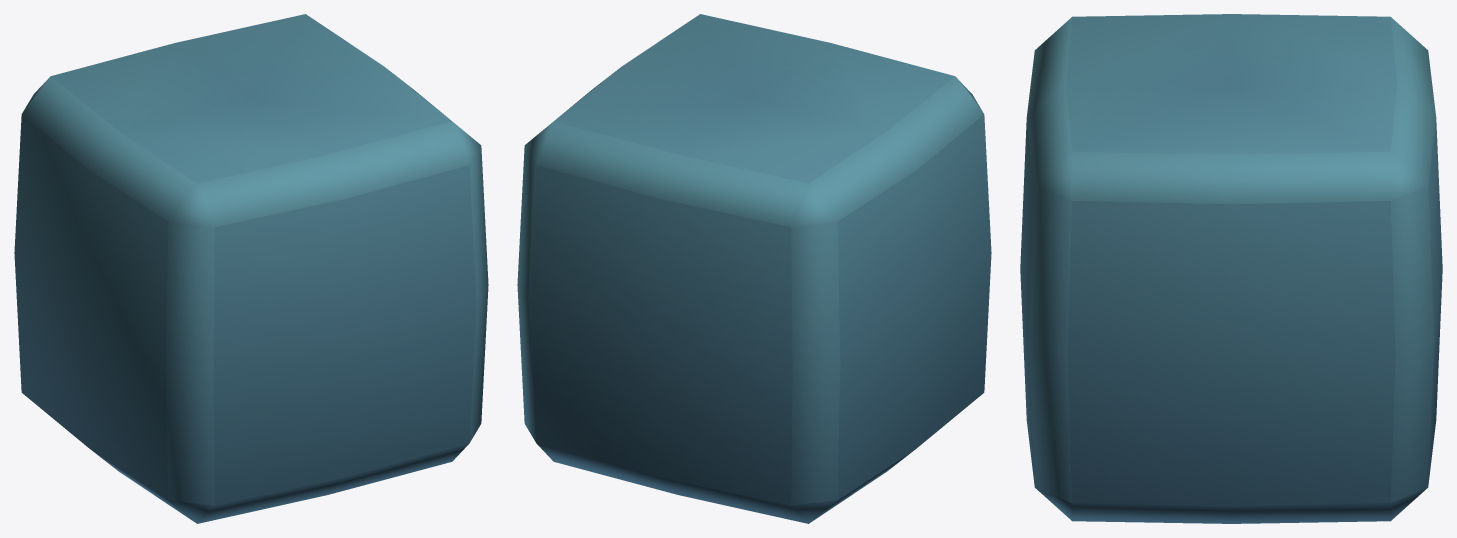
Rendered from cube_50cm_light.fbx.
The picture shows the model from 3 angles, left to right: view 1: azimuth 30°, elevation 25°; view 2: azimuth 150°, elevation 25°; view 3: azimuth 270°, elevation 25°; orthographic projection. The views are drawn at different scales.
Parts seen in each view (by area): view 1: cube_50cm_light; view 2: cube_50cm_light; view 3: cube_50cm_light.
Boxes of the visible parts, x1=… form: cube_50cm_light: x1=14, y1=14, x2=488, y2=523; cube_50cm_light: x1=517, y1=14, x2=991, y2=523; cube_50cm_light: x1=1020, y1=14, x2=1442, y2=523.
Bounding box in the file's own units: 56.86 × 55.02 × 57.01.
